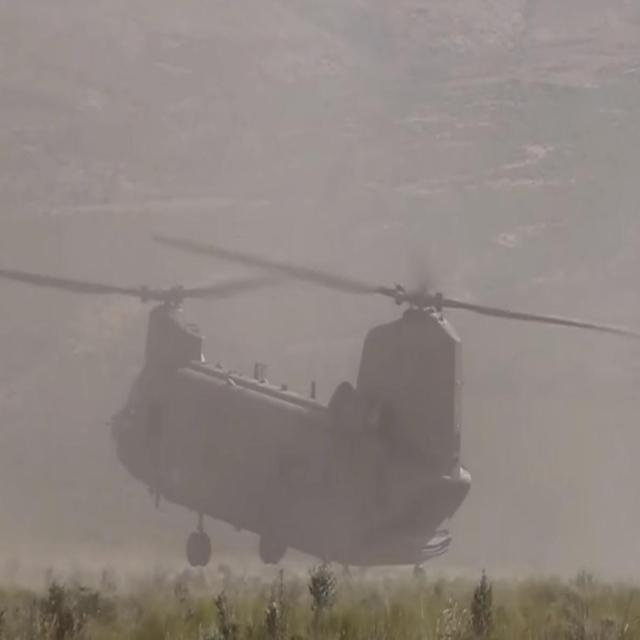Helicopter: (90, 215, 475, 592)
